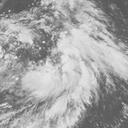cyclone: (20, 28, 126, 127)
